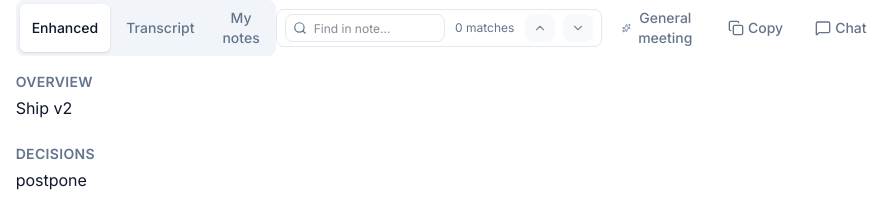
Scenario: NoteView — template switcher › opens the picker dropdown and lists all templates
Click the button with aria-label "switch template" at [659, 28], box [610,4,708,52]
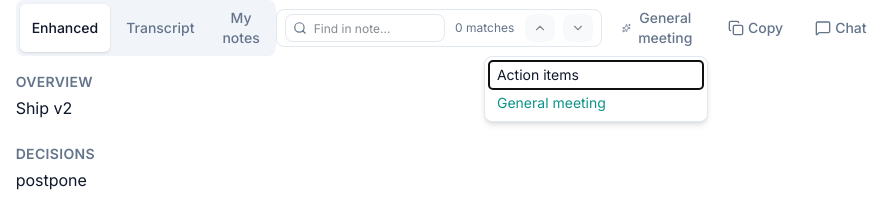
Check: the number of options "Action items" is 2, box [489,61,703,89]; [489,89,703,117]
